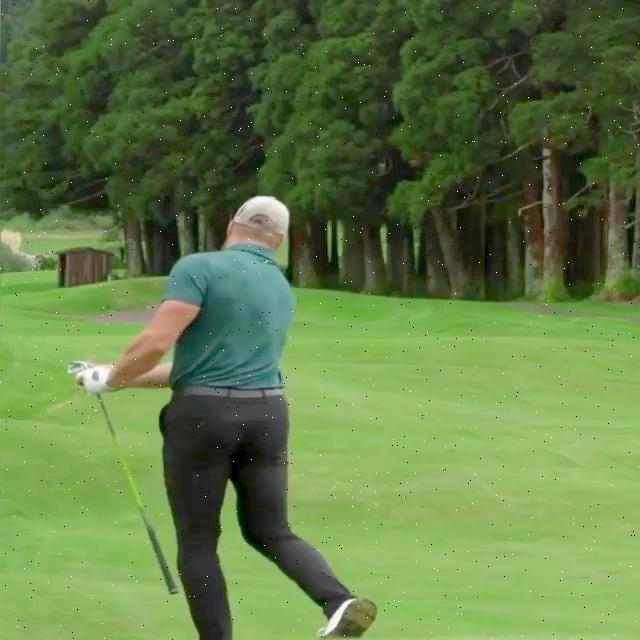golf club-handle: (67, 361, 179, 595)
golf club-head: (67, 362, 88, 374)
